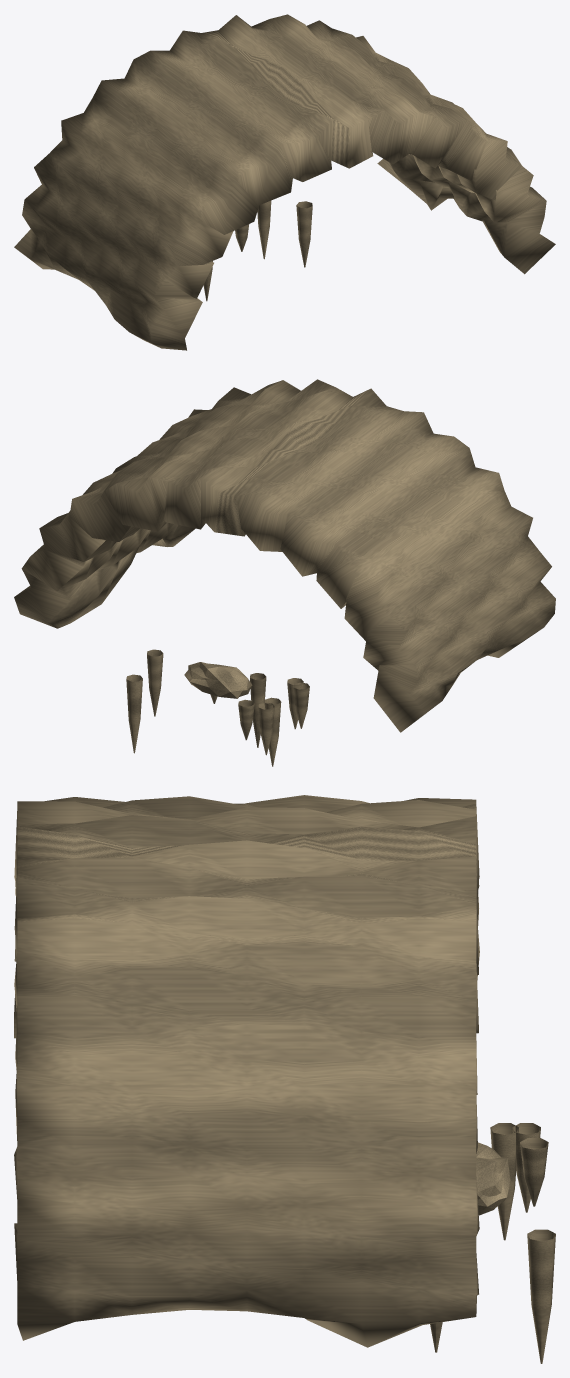
The model's file is geology.glb.
3 views of the same model, one above another, from view 1: azimuth 30°, elevation 25°; view 2: azimuth 150°, elevation 25°; view 3: azimuth 270°, elevation 25° (orthographic). The views are drawn at different scales.
Parts seen in each view (by area): view 1: karst-shelter, stalactite-cluster; view 2: karst-shelter, stalactite-cluster, talus-1, talus-0; view 3: karst-shelter, stalactite-cluster, talus-1, talus-0.
Boxes of the visible parts, x1=… form: karst-shelter: x1=14, y1=14, x2=555, y2=350; stalactite-cluster: x1=203, y1=200, x2=312, y2=301; karst-shelter: x1=14, y1=379, x2=555, y2=732; stalactite-cluster: x1=126, y1=649, x2=309, y2=766; talus-1: x1=188, y1=662, x2=243, y2=698; talus-0: x1=190, y1=666, x2=252, y2=689; karst-shelter: x1=14, y1=795, x2=479, y2=1347; stalactite-cluster: x1=430, y1=1123, x2=555, y2=1363; talus-1: x1=476, y1=1157, x2=510, y2=1207; talus-0: x1=476, y1=1142, x2=502, y2=1196.
Size of the model in its own units: 25.06 by 15.76 by 16.53.
Materials: 1 (1 with a texture image).
